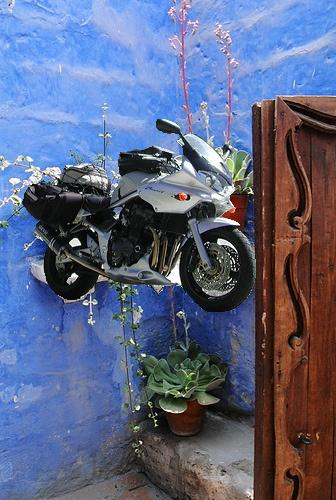tampered: (23, 120, 256, 312)
